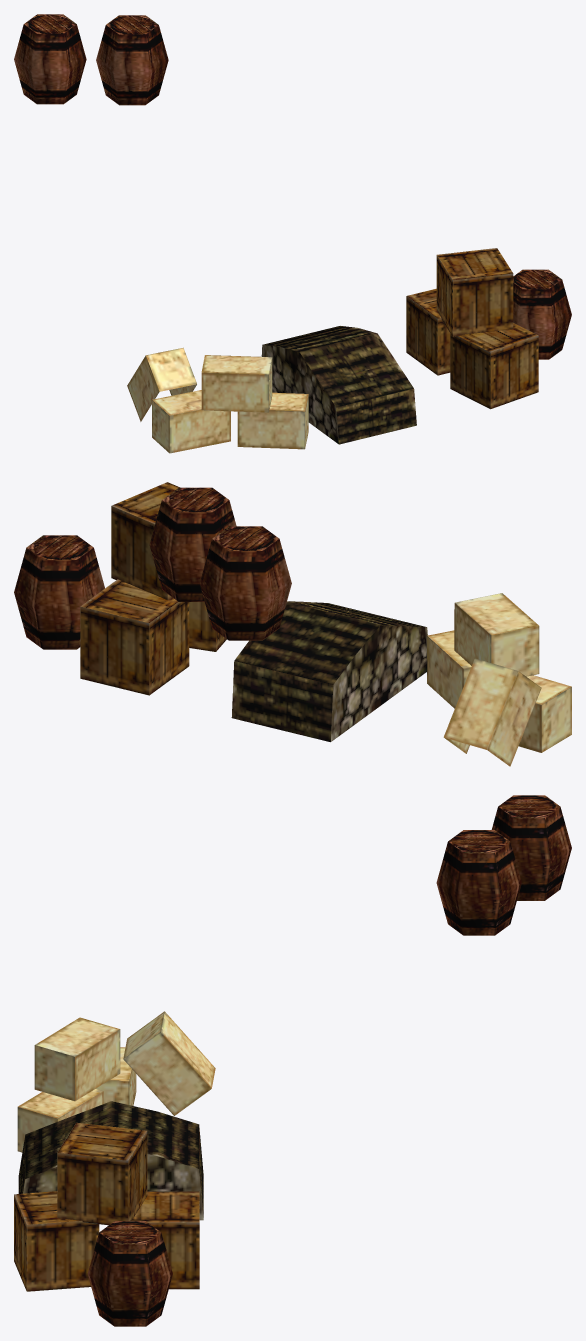
File: pers_storehouse_1.dae
3 views of the same model, one above another, from view 1: azimuth 30°, elevation 25°; view 2: azimuth 150°, elevation 25°; view 3: azimuth 270°, elevation 25° (orthographic). The views are drawn at different scales.
Visible parts, largest first — view 1: Object37-Pivot; view 2: Object37-Pivot; view 3: Object37-Pivot.
Part boxes in pixels (bbox=[...]): Object37-Pivot: bbox=[14, 14, 571, 453]; Object37-Pivot: bbox=[14, 482, 571, 766]; Object37-Pivot: bbox=[14, 795, 571, 1326].
Size of the model in its own units: 11.38 by 11.36 by 7.37.
